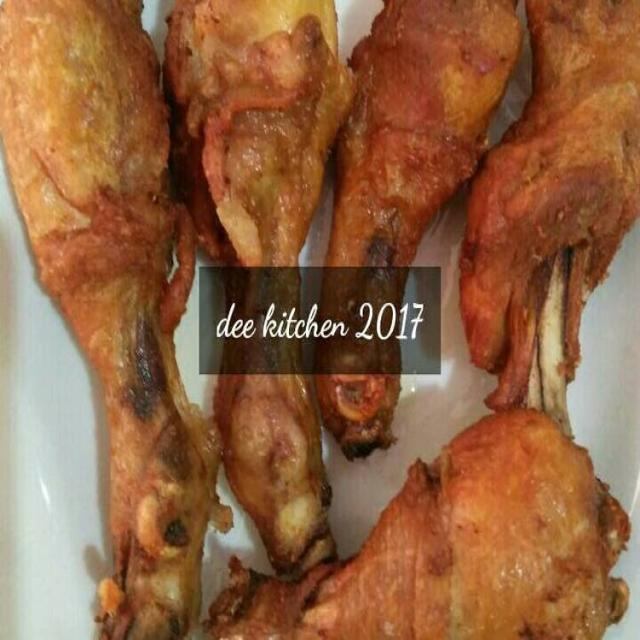Chicken -Fried Chicken-: (0, 0, 234, 640), (170, 0, 361, 577), (202, 396, 640, 640), (305, 0, 529, 457)
